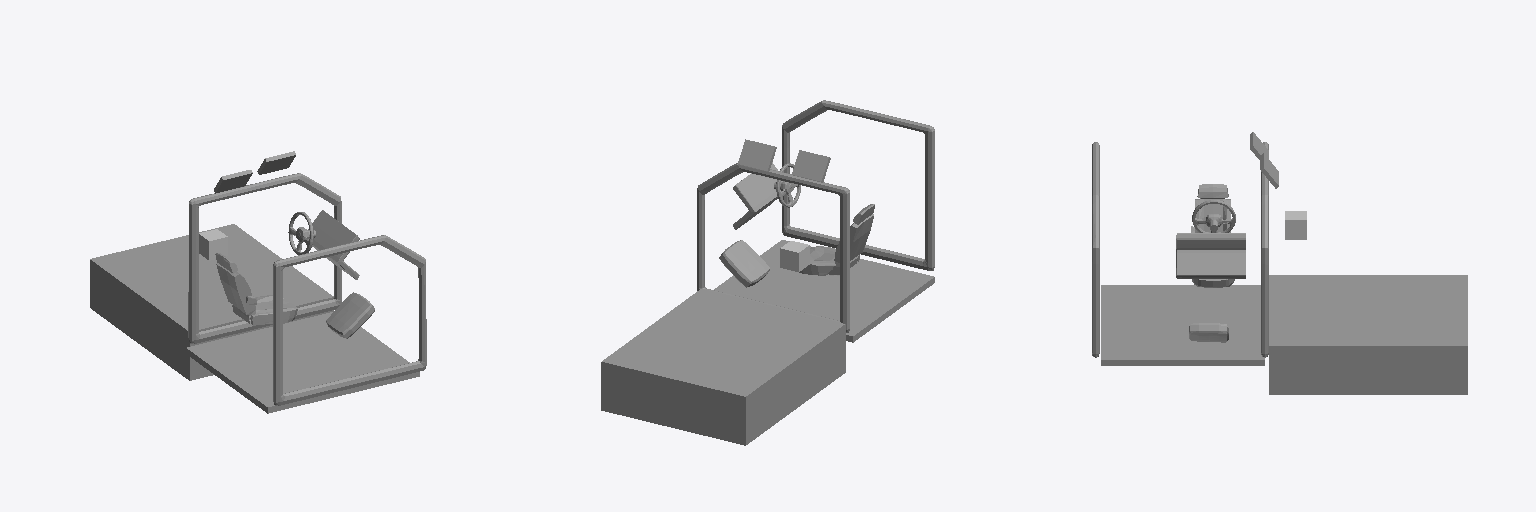
Rendered from carprm.obj.
3 views of the same model, side by side, from view 1: azimuth 30°, elevation 25°; view 2: azimuth 150°, elevation 25°; view 3: azimuth 270°, elevation 25° (orthographic).
Visible parts, largest first — view 1: Mesh.001_Cube_Cube.000, Mesh.005_3.000, Mesh.004_4.001, Mesh.007_0.000, Mesh.003_5.001, Mesh.002_2.001, Cube_Cube.004, Mesh.006_1.000; view 2: Mesh.001_Cube_Cube.000, Mesh.004_4.001, Mesh.005_3.000, Mesh.007_0.000, Mesh.003_5.001, Mesh.002_2.001, Mesh_Cube.001_Cube.000, Cube_Cube.004; view 3: Mesh.001_Cube_Cube.000, Mesh.005_3.000, Mesh.003_5.001, Mesh.004_4.001, Mesh.007_0.000, Mesh.002_2.001, Mesh.006_1.000, Cube_Cube.004.
Part boxes in pixels (x1,y1,x2,y2): Mesh.001_Cube_Cube.000: (90,170,333,380); Mesh.005_3.000: (186,312,419,413); Mesh.004_4.001: (188,173,426,405); Mesh.007_0.000: (215,253,297,325); Mesh.003_5.001: (308,210,359,279); Mesh.002_2.001: (326,292,374,338); Cube_Cube.004: (199,229,227,260); Mesh.006_1.000: (288,212,315,254); Mesh.001_Cube_Cube.000: (601,150,845,445); Mesh.004_4.001: (697,100,934,332); Mesh.005_3.000: (714,240,934,342); Mesh.007_0.000: (799,204,874,275); Mesh.003_5.001: (733,162,782,229); Mesh.002_2.001: (719,240,769,287); Mesh_Cube.001_Cube.000: (738,139,776,171); Cube_Cube.004: (780,241,809,271); Mesh.001_Cube_Cube.000: (1250,132,1467,394); Mesh.005_3.000: (1101,285,1264,365); Mesh.003_5.001: (1176,233,1245,278); Mesh.004_4.001: (1092,142,1268,357); Mesh.007_0.000: (1191,184,1234,287); Mesh.002_2.001: (1189,323,1228,342); Mesh.006_1.000: (1192,200,1235,232); Cube_Cube.004: (1285,211,1306,239).
Bounding box in the file's own units: 1.66 × 2.11 × 3.49.